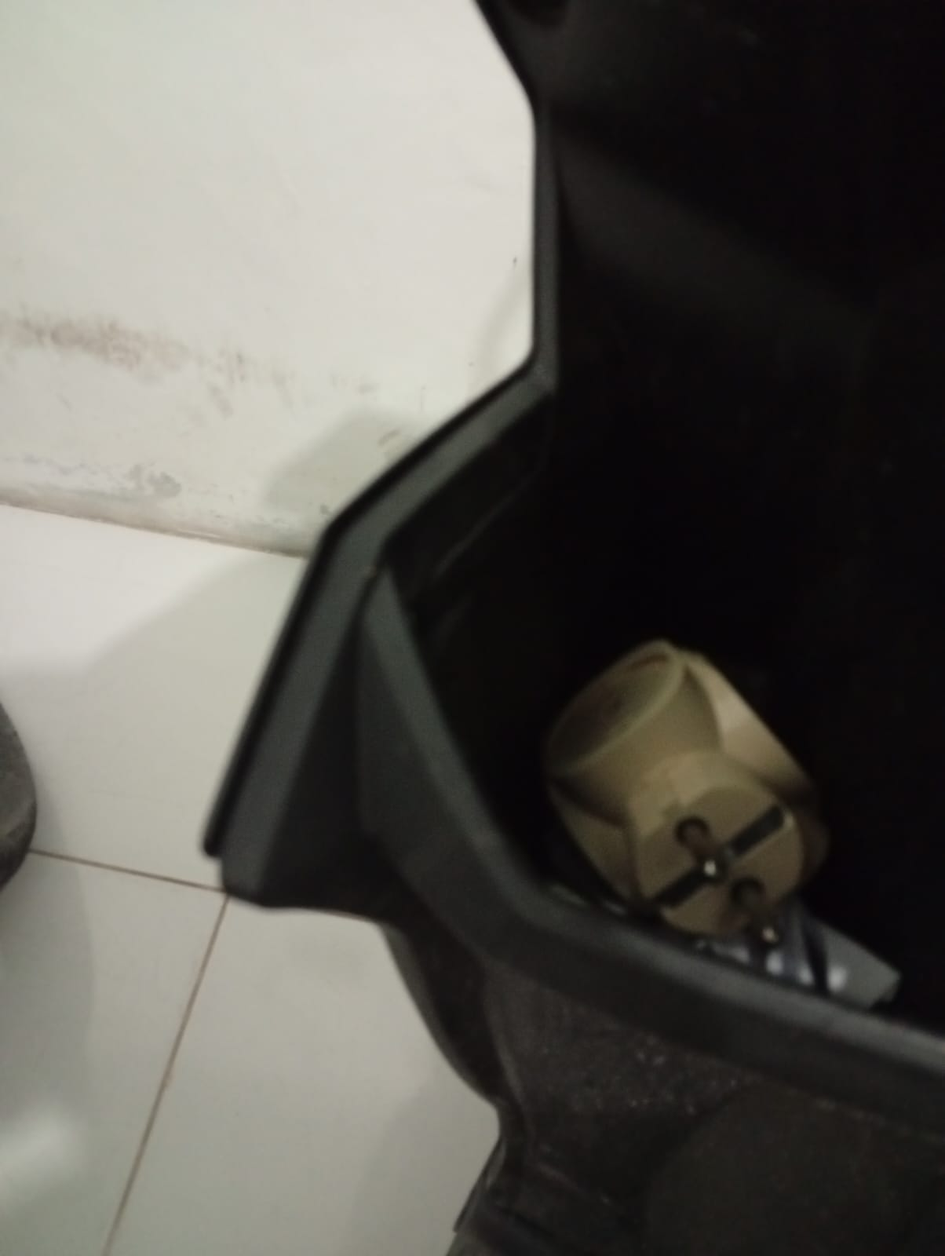Colokan: (652, 528, 945, 902)
